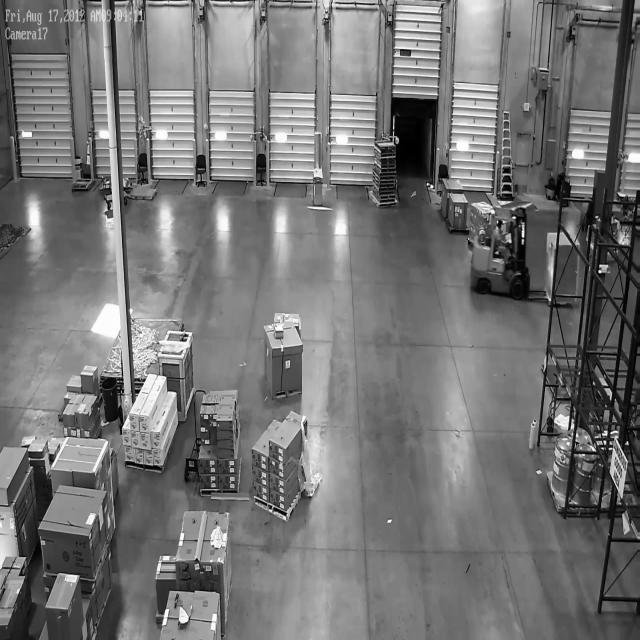human: (494, 218, 512, 266)
product 1: (50, 423, 111, 528), (175, 512, 242, 572), (158, 591, 232, 640), (8, 464, 39, 574), (543, 224, 582, 310), (263, 324, 304, 393), (447, 192, 469, 233), (440, 177, 468, 199), (471, 198, 494, 224), (274, 306, 301, 328), (468, 223, 490, 241), (112, 448, 120, 492)
product 2: (271, 322, 284, 338)
product 3: (128, 413, 140, 432), (140, 432, 152, 449), (153, 448, 163, 468), (139, 415, 150, 433), (151, 432, 161, 451), (124, 447, 134, 465), (122, 428, 130, 448), (134, 448, 144, 464), (131, 431, 140, 448), (144, 449, 153, 466)
product 4: (1, 439, 28, 506), (77, 396, 100, 426), (62, 397, 79, 425), (81, 366, 100, 390), (269, 441, 287, 464), (32, 458, 51, 478), (251, 448, 267, 471), (218, 474, 238, 492), (67, 372, 85, 391), (268, 459, 285, 478), (252, 469, 271, 486), (20, 433, 38, 450), (269, 490, 285, 509), (270, 476, 285, 496), (198, 475, 218, 490), (218, 459, 238, 474), (254, 489, 274, 503), (197, 461, 216, 475), (216, 430, 235, 444), (199, 403, 219, 416), (217, 404, 237, 417), (219, 413, 233, 430), (201, 394, 220, 405), (216, 421, 236, 431), (50, 434, 66, 446), (215, 444, 236, 453), (61, 426, 76, 437), (217, 396, 237, 404), (53, 442, 61, 461), (77, 429, 92, 439), (40, 441, 49, 457), (200, 414, 210, 428), (217, 452, 235, 459), (199, 426, 209, 438), (209, 414, 217, 428), (63, 392, 77, 400), (197, 439, 210, 445)
product 5: (45, 569, 84, 635), (90, 540, 112, 626), (66, 598, 95, 639), (1, 550, 34, 580), (154, 555, 180, 593), (0, 600, 24, 639), (0, 583, 30, 605)
